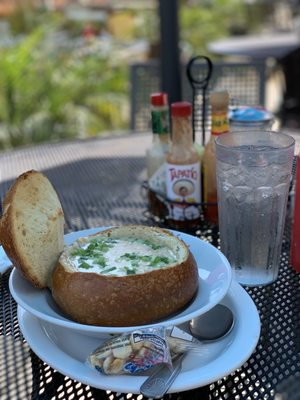pizza: (214, 130, 296, 287)
salad: (189, 303, 234, 340)
soup: (51, 224, 199, 325)
